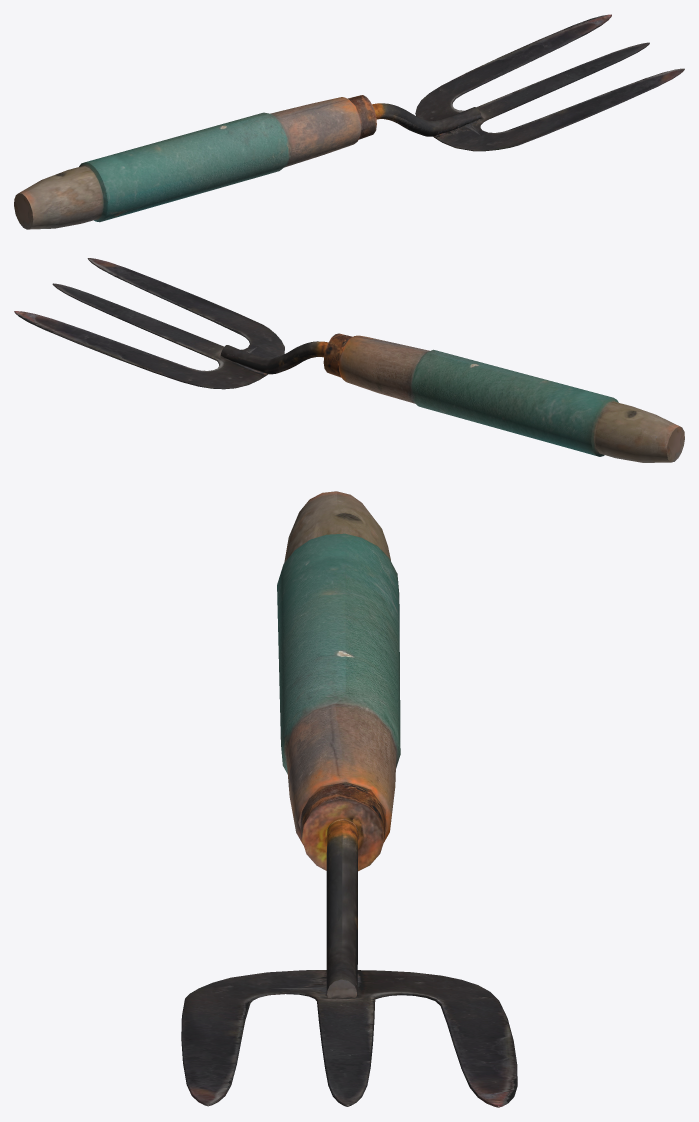
Rendered from Garden-Fork.glb.
3 renders of one model, top to bottom at view 1: azimuth 30°, elevation 25°; view 2: azimuth 150°, elevation 25°; view 3: azimuth 270°, elevation 25°, orthographic. The views are drawn at different scales.
Visible parts, largest first — view 1: Curve_004; view 2: Curve_004; view 3: Curve_004.
Boxes of the visible parts, x1,y1,x2,y2 form: Curve_004: (14,14,684,229); Curve_004: (14,258,684,462); Curve_004: (181,491,517,1107).
Bounding box in the file's own units: 0.33 × 0.0306 × 0.0774.
1 material, 1 textured.
